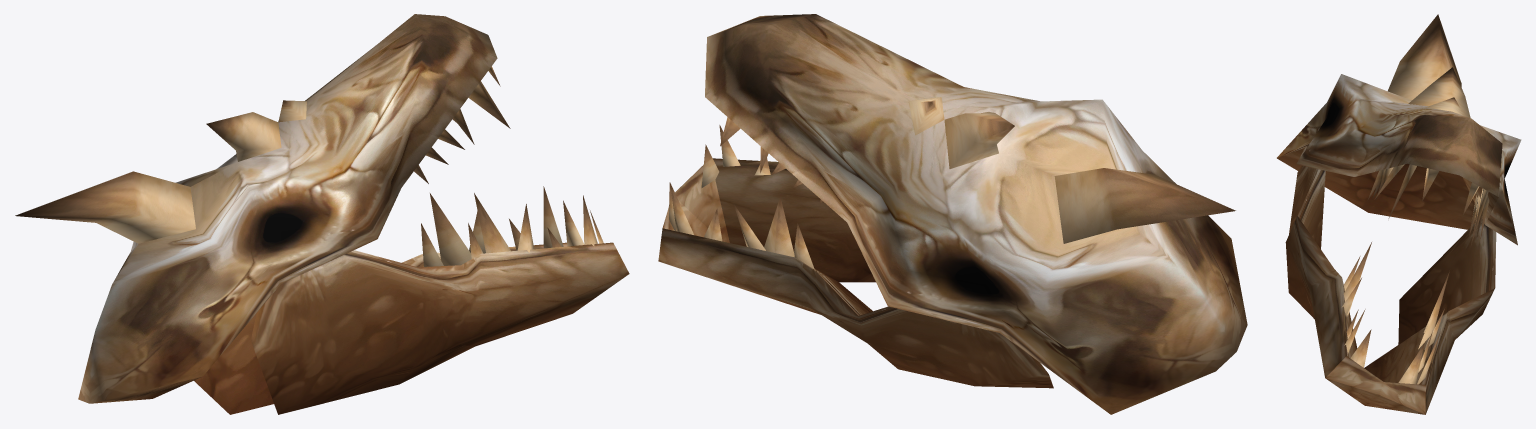
The model's file is dragonbonesskull.obj.
3 views of the same model, side by side, from view 1: azimuth 30°, elevation 25°; view 2: azimuth 150°, elevation 25°; view 3: azimuth 270°, elevation 25° (orthographic). The views are drawn at different scales.
Visible parts, largest first — view 1: dragonbonesskull; view 2: dragonbonesskull; view 3: dragonbonesskull.
Part boxes in pixels (x1,y1,x2,y2): dragonbonesskull: [15, 14, 629, 414]; dragonbonesskull: [658, 14, 1247, 414]; dragonbonesskull: [1277, 14, 1521, 414].
Size of the model in its own units: 12.08 by 6.43 by 5.14.
Materials: 1 (1 with a texture image).
